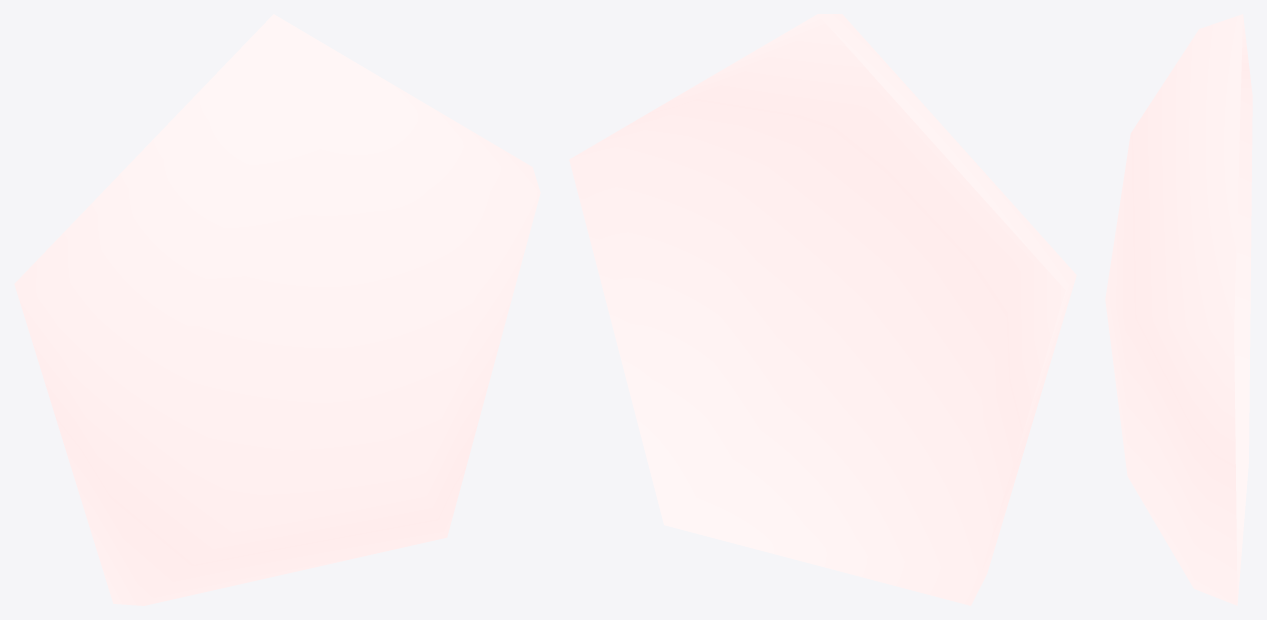
3 views of the same model, side by side, from view 1: azimuth 30°, elevation 25°; view 2: azimuth 150°, elevation 25°; view 3: azimuth 270°, elevation 25° (orthographic). The views are drawn at different scales.
Visible parts, largest first — view 1: light.002; view 2: light.002; view 3: light.002.
Boxes of the visible parts, left/top/right/bottom form: light.002: left=14, top=14, right=540, bottom=605; light.002: left=569, top=14, right=1076, bottom=605; light.002: left=1105, top=14, right=1252, bottom=605.
Bounding box in the file's own units: 0.4805 × 0.5 × 0.1285.
